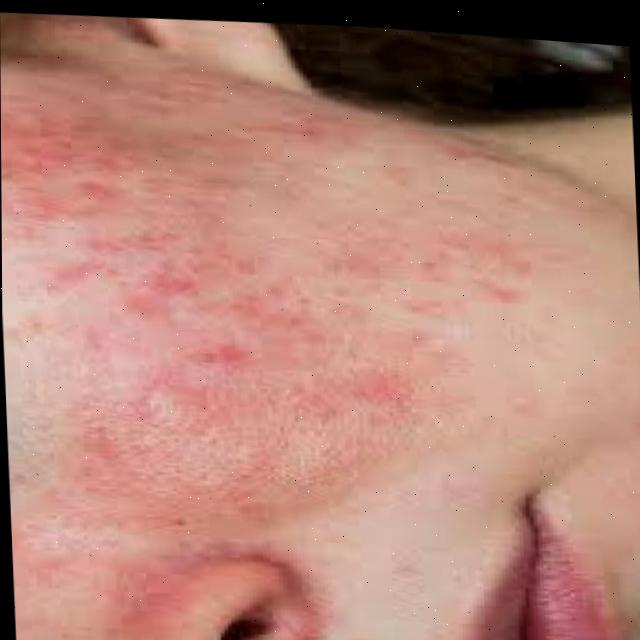Rosacea: (13, 77, 519, 559)
